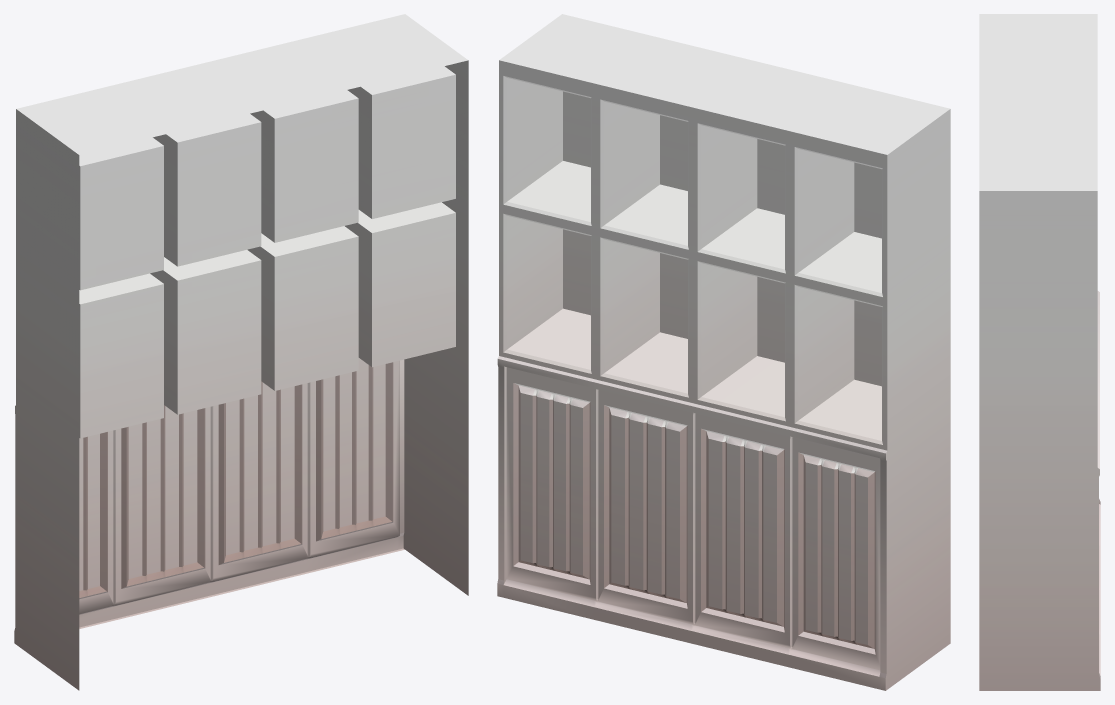
File: Doll_OB_cabinet_001.fbx
The picture shows the model from 3 angles, left to right: view 1: azimuth 30°, elevation 25°; view 2: azimuth 150°, elevation 25°; view 3: azimuth 270°, elevation 25°; orthographic projection. The views are drawn at different scales.
Parts seen in each view (by area): view 1: Doll_OB_cabinet_001; view 2: Doll_OB_cabinet_001; view 3: Doll_OB_cabinet_001.
Boxes of the visible parts, box(x1,y1,x2,y2) form: Doll_OB_cabinet_001: box(14, 14, 468, 690); Doll_OB_cabinet_001: box(497, 14, 950, 690); Doll_OB_cabinet_001: box(979, 14, 1100, 690).
Bounding box in the file's own units: 123 × 161 × 35.51.
Materials: 1 (1 with a texture image).
